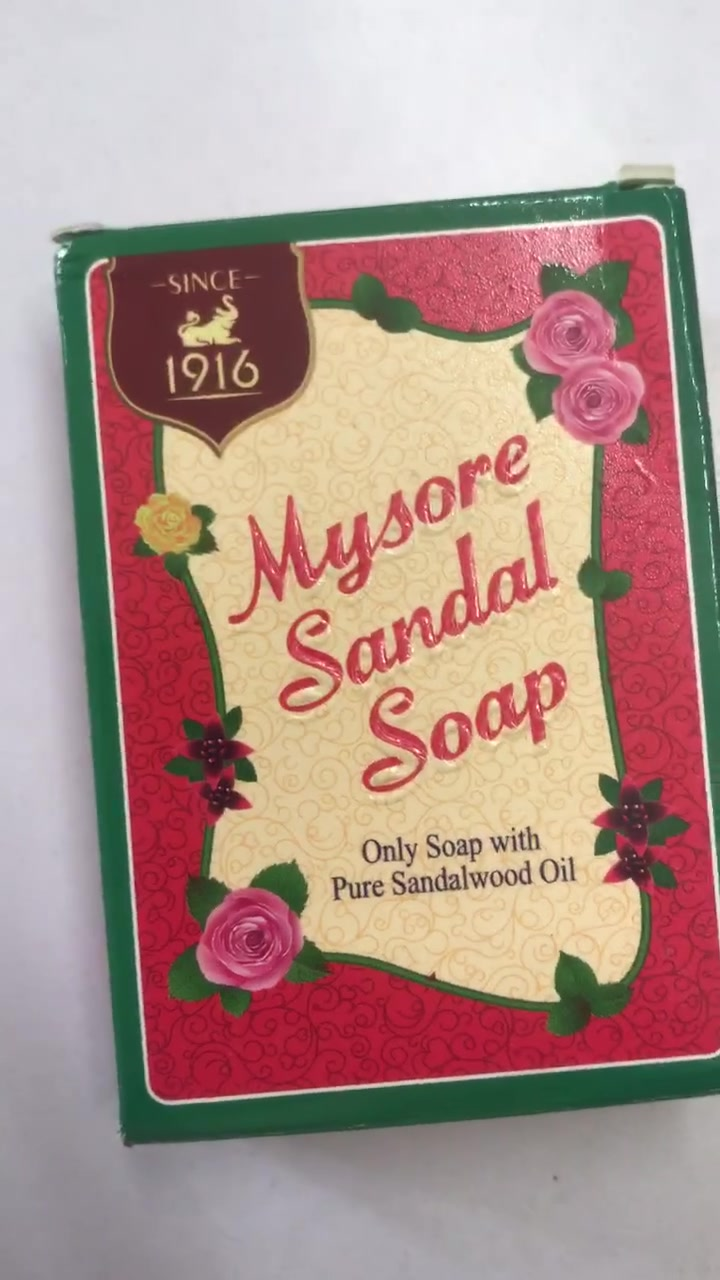mysore sandal soap: (69, 232, 720, 1138)
